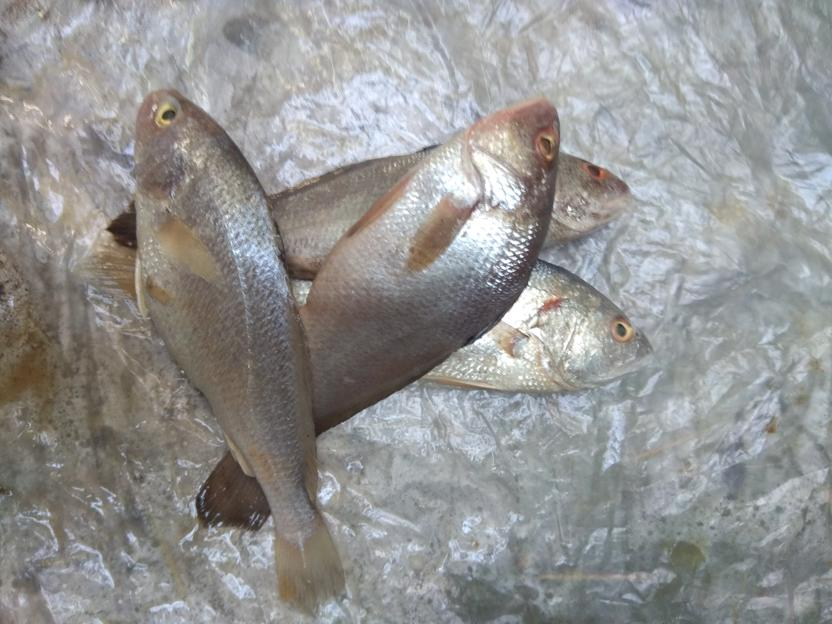Fish head: (534, 257, 653, 395), (133, 87, 231, 202), (463, 99, 562, 212), (552, 150, 629, 246)
Fish tail: (271, 514, 347, 619), (192, 449, 271, 532), (75, 243, 141, 299)
